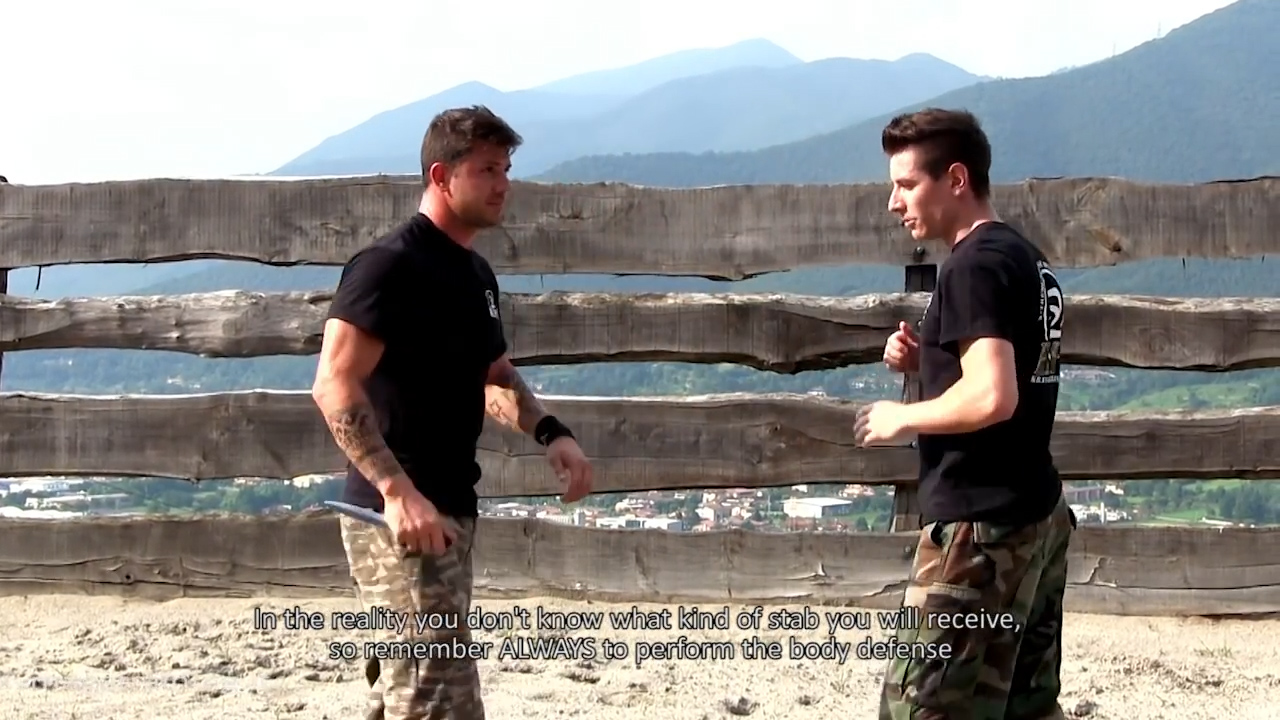knife: (316, 494, 458, 560)
